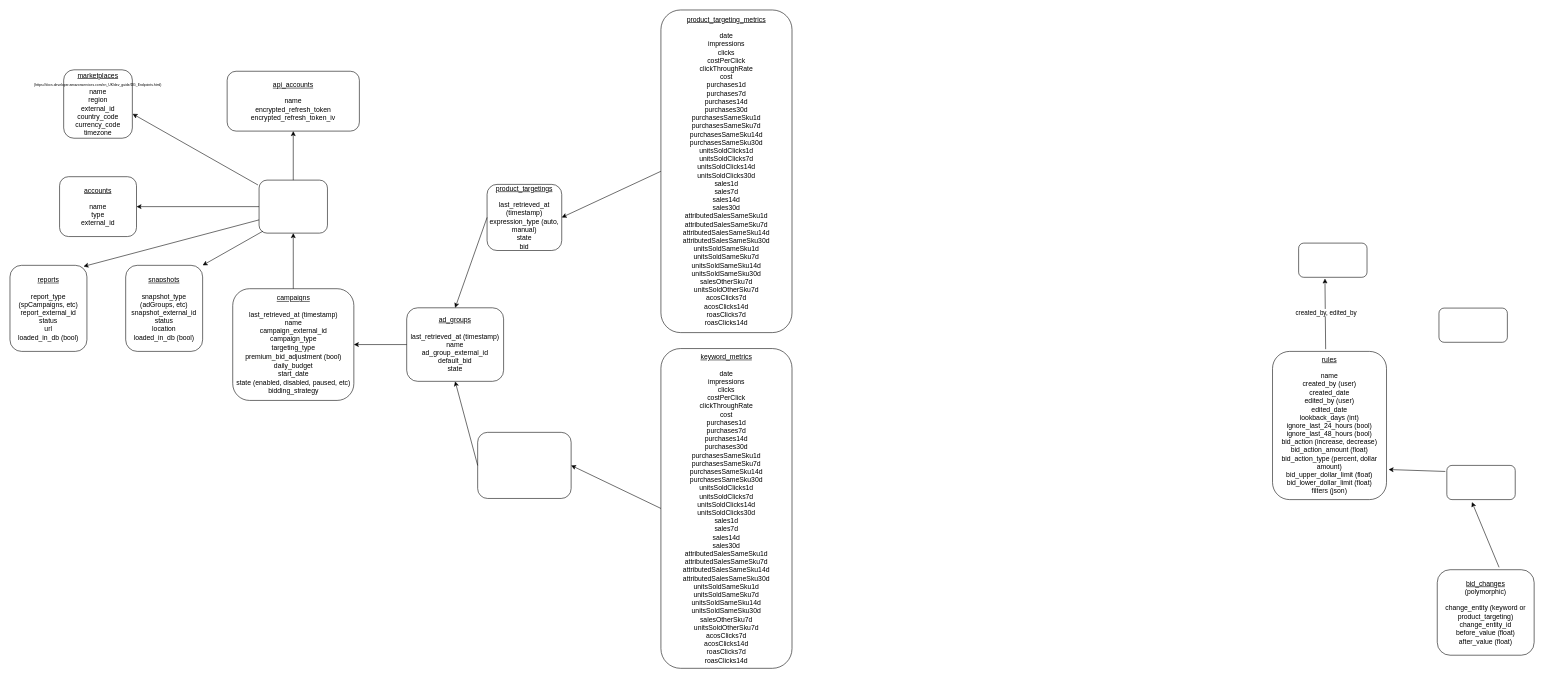
Some shapes in this 1544 by 678 pixel diagram are drawn without their labels. The shapes that lost their labels are listed below. From the top down, each one's centre as x and y in pixels, then its label:
At (292,206): "profiles profile_external_id inactive_at (timestamp, inactive by default)".
At (1332,260): "users".
At (1472,325): "rule_types".
At (524,465): "keywords last_retrieved_at (timestamp) keyword_text match_type state bid".
At (1480,482): "rule_executions start_timestamp".
